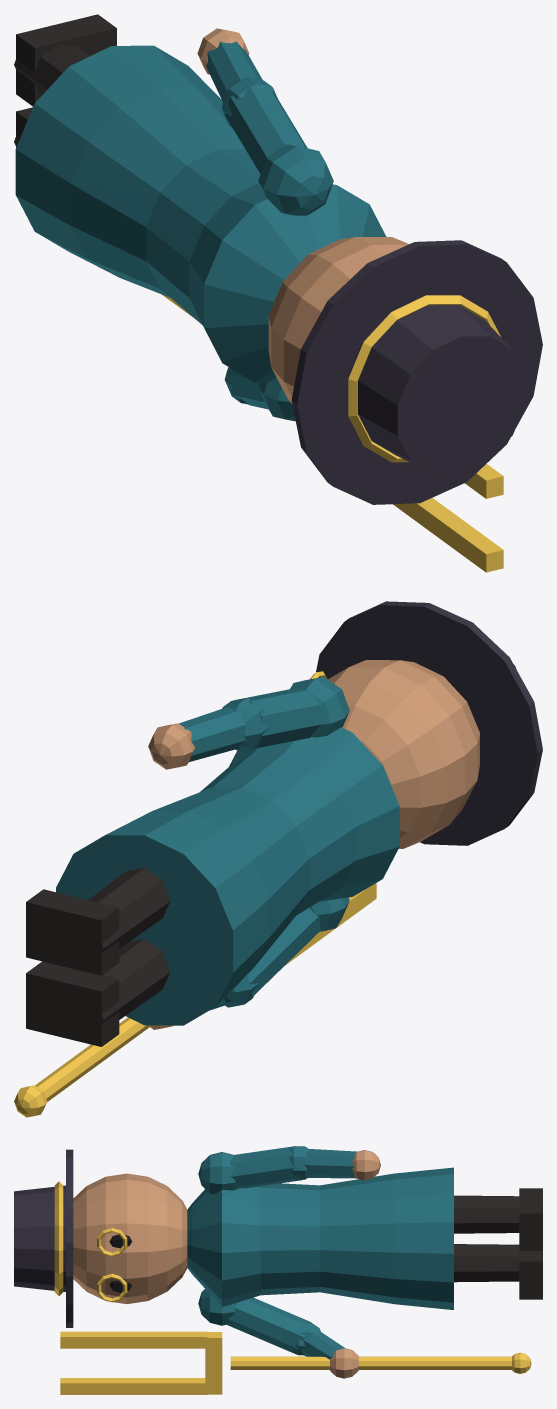
Rendered from Joel.obj.
3 renders of one model, top to bottom at view 1: azimuth 30°, elevation 25°; view 2: azimuth 150°, elevation 25°; view 3: azimuth 270°, elevation 25°, orthographic. The views are drawn at different scales.
Parts seen in each view (by area): view 1: Joel; view 2: Joel; view 3: Joel.
Part boxes in pixels (bbox=[...]): Joel: bbox=[14, 14, 542, 572]; Joel: bbox=[14, 601, 542, 1117]; Joel: bbox=[14, 1146, 542, 1394].
Bounding box in the file's own units: 62.82 × 90.51 × 186.
